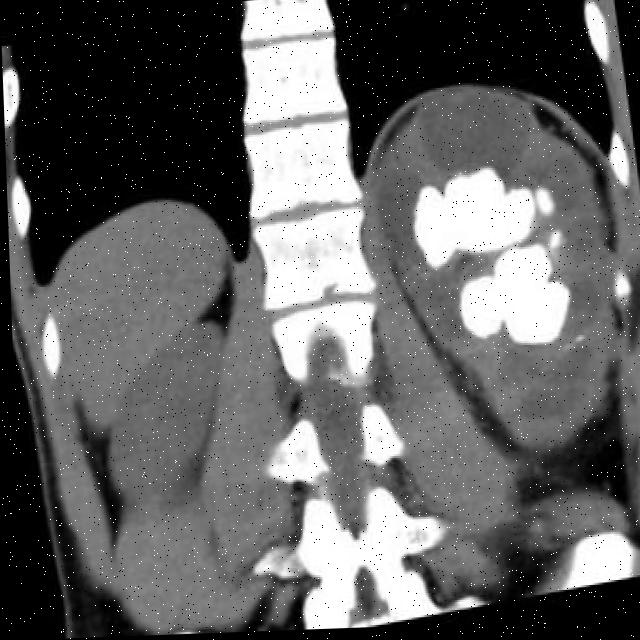Tas_Var: (400, 144, 542, 283), (447, 238, 589, 364), (529, 176, 561, 227), (540, 225, 572, 263), (571, 334, 586, 347)
